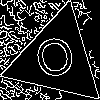O: (31, 34, 81, 90)
